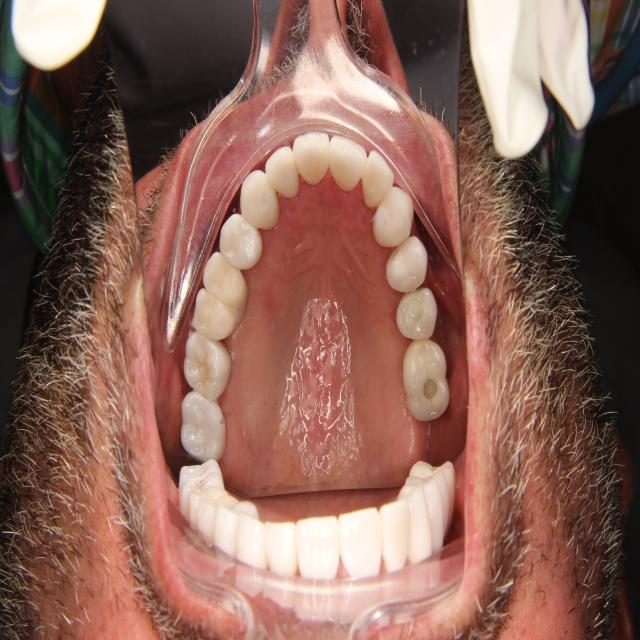tooth: (182, 242, 251, 344), (400, 331, 454, 426), (174, 385, 232, 466), (176, 329, 236, 406), (236, 161, 282, 238), (214, 211, 267, 273), (370, 181, 415, 250), (291, 122, 334, 194), (393, 281, 441, 344), (383, 235, 430, 298), (327, 130, 369, 199), (361, 141, 396, 214), (261, 144, 301, 203)
